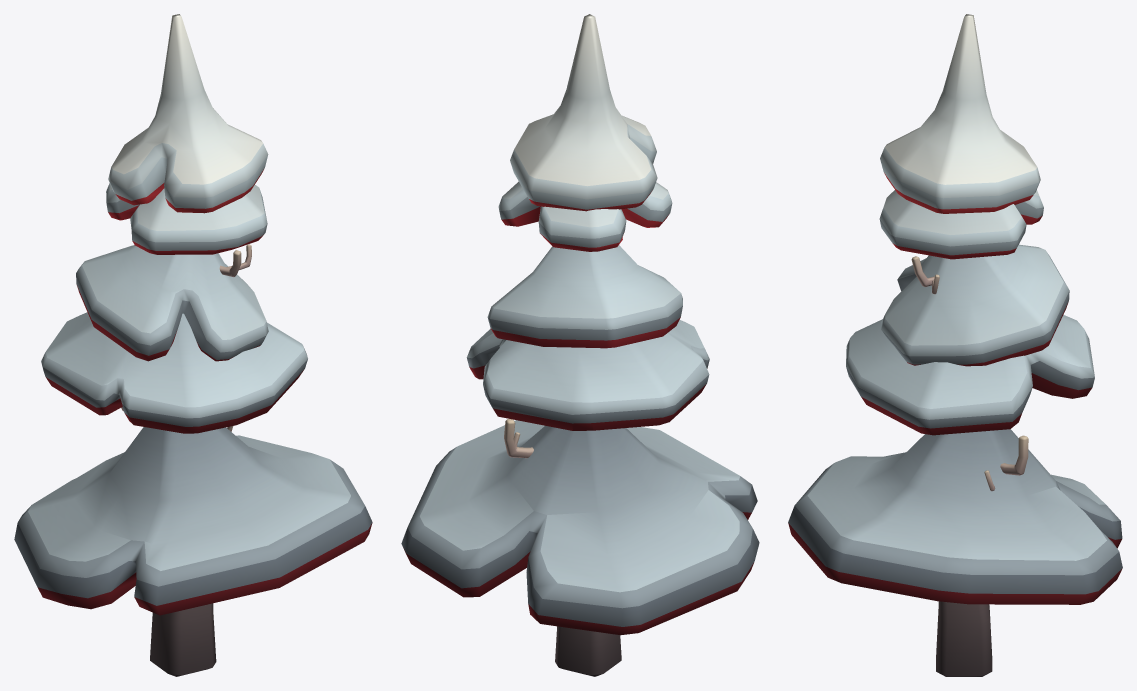
The model's file is pine_tree_col3_03_snow.fbx.
3 views of the same model, side by side, from view 1: azimuth 30°, elevation 25°; view 2: azimuth 150°, elevation 25°; view 3: azimuth 270°, elevation 25° (orthographic).
Visible parts, largest first — view 1: pine_tree_col3_03_snow; view 2: pine_tree_col3_03_snow; view 3: pine_tree_col3_03_snow.
Boxes of the visible parts, bbox=[...] form: pine_tree_col3_03_snow: bbox=[14, 14, 372, 676]; pine_tree_col3_03_snow: bbox=[401, 14, 759, 676]; pine_tree_col3_03_snow: bbox=[788, 14, 1122, 676].
Size of the model in its own units: 601 by 1227 by 571.
1 material, 1 textured.
